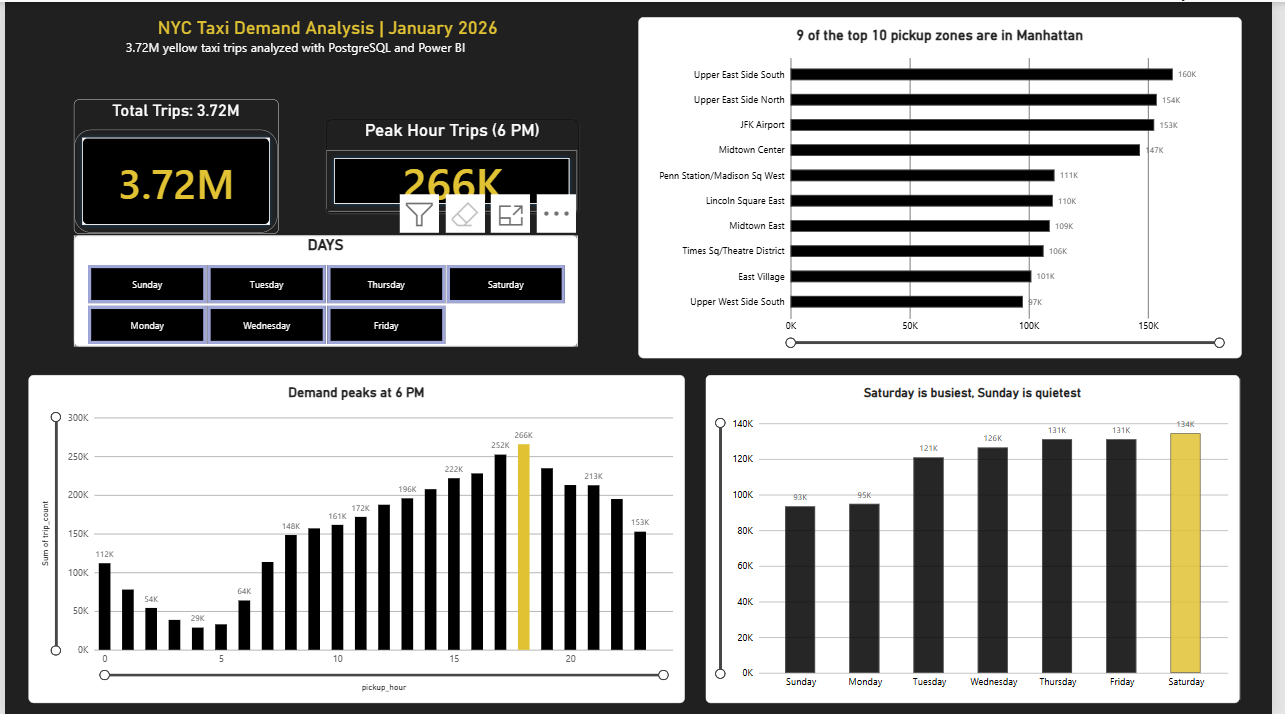

Layout of this report page (visuals, bound fields, positions):
{"tool":"powerbi","page":{"name":"NYC Taxi Demand Analysis | January 2026","canvas":[1920,1080],"ordinal":0},"visuals":[{"type":"cardVisual","title":"Total Trips: 3.72M","fields":{"Data":["Sum(data-1795502666933.trip_count)"]},"box":[103.2,146.6,310.4,203.5],"z":0},{"type":"cardVisual","title":"Peak Hour Trips (6 PM)","fields":{"Data":["Max(data-1795502666933.trip_count)"]},"box":[486,179.2,382.9,141.2],"z":1000},{"type":"columnChart","title":"Demand peaks at 6 PM","fields":{"Category":["data-1795502666933.pickup_hour"],"Y":["Sum(data-1795502666933.trip_count)"]},"box":[35.3,564.8,993.8,496.9],"z":2000},{"type":"barChart","title":"9 of the top 10 pickup zones are in Manhattan","fields":{"Category":["data-1795502280871.zone"],"Y":["Sum(data-1795502280871.trip_count)"]},"box":[959.2,22.9,913.4,516.5],"z":3000},{"type":"columnChart","title":"Saturday is busiest, Sunday is quietest","fields":{"Category":["data-1795502926965.day_name"],"Y":["Sum(data-1795502926965.avg_trips_per_day)"]},"box":[1061.7,564.8,809.2,496.9],"z":4000},{"type":"slicer","title":"DAYS","fields":{"Values":["data-1795502926965.day_name"]},"box":[104.3,353.7,763.3,167.9],"z":5000},{"type":"textbox","title":"NYC Taxi Demand Analysis | January 2026","box":[181.9,21.7,611,97.8],"z":5001}]}

Visuals, with their boxes in screenshot pixels (x1, y1, x2, y2), scaled from the page's 1920x1080 canvas onto the 1285x714 screenshot:
"Total Trips: 3.72M" cardVisual: (69, 97, 277, 231)
"Peak Hour Trips (6 PM)" cardVisual: (325, 118, 582, 212)
"Demand peaks at 6 PM" columnChart: (24, 373, 689, 702)
"9 of the top 10 pickup zones are in Manhattan" barChart: (642, 15, 1253, 357)
"Saturday is busiest, Sunday is quietest" columnChart: (711, 373, 1252, 702)
"DAYS" slicer: (70, 234, 581, 345)
"NYC Taxi Demand Analysis | January 2026" textbox: (122, 14, 531, 79)
